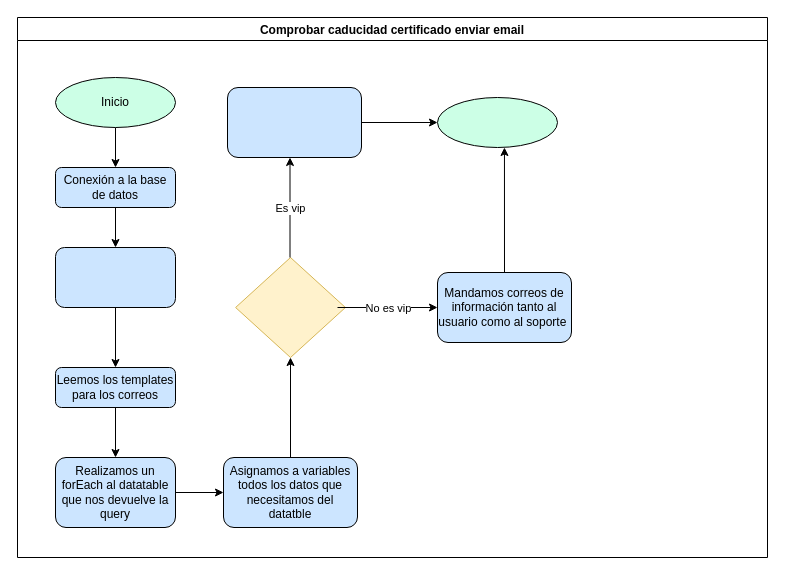
This 785x575 diagram has some shape labels left out. Each missing label, with the box of its shape:
Ejecutamos la query seleccionando los certificados que van a caducar: (54, 246, 176, 308)
Fin: (436, 96, 558, 148)
If usuario es vip: (235, 256, 345, 358)
Mandamos correos de información tanto al usuario como al soporte vip: (226, 86, 362, 158)
